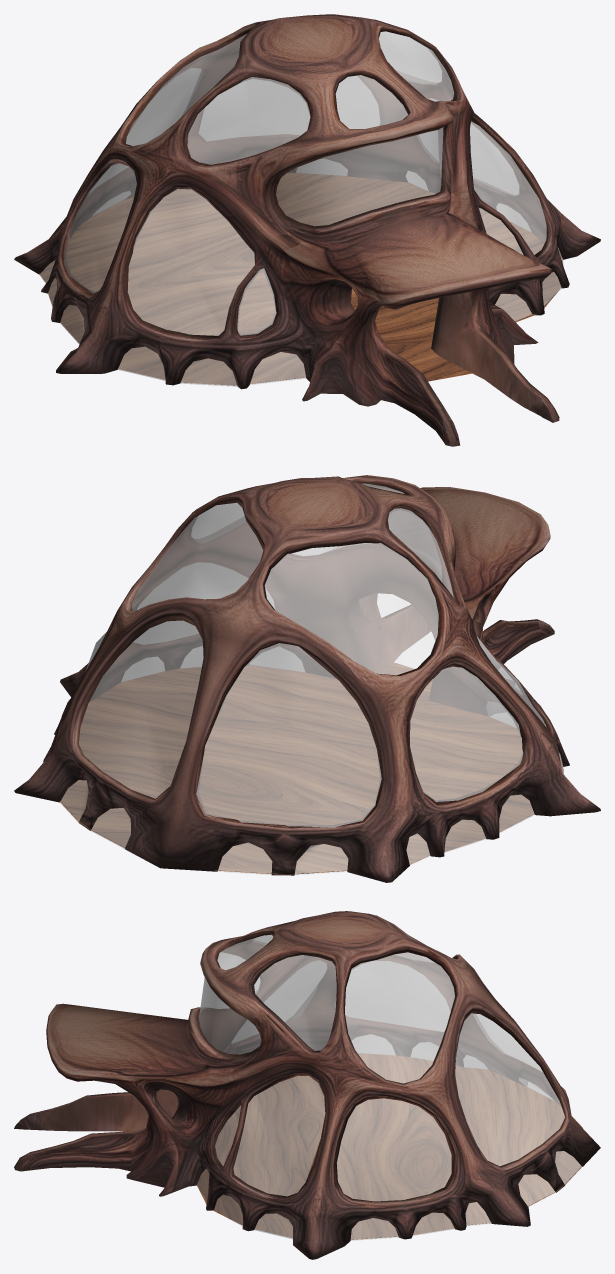
File: HomeDome01.glb
3 views of the same model, one above another, from view 1: azimuth 30°, elevation 25°; view 2: azimuth 150°, elevation 25°; view 3: azimuth 270°, elevation 25° (orthographic). The views are drawn at different scales.
Parts seen in each view (by area): view 1: HomeDome, HomeDome.Glass, HomeDome.Glass.001, HomeDomeFloor; view 2: HomeDome, HomeDome.Glass, HomeDome.Glass.001, HomeDomeFloor; view 3: HomeDome, HomeDome.Glass, HomeDome.Glass.001, HomeDomeFloor.
Part boxes in pixels (x1,y1,x2,y2): HomeDome: (14, 14, 600, 446); HomeDome.Glass: (39, 31, 562, 386); HomeDome.Glass.001: (40, 31, 562, 386); HomeDomeFloor: (39, 173, 562, 385); HomeDome: (14, 475, 600, 882); HomeDome.Glass: (60, 484, 562, 875); HomeDome.Glass.001: (60, 484, 562, 874); HomeDomeFloor: (59, 662, 563, 874); HomeDome: (14, 911, 600, 1259); HomeDome.Glass: (197, 935, 581, 1240); HomeDome.Glass.001: (197, 935, 581, 1240); HomeDomeFloor: (197, 1053, 582, 1239).
Bounding box in the file's own units: 26.11 × 12 × 28.7.
Materials: 3 (3 with a texture image).
